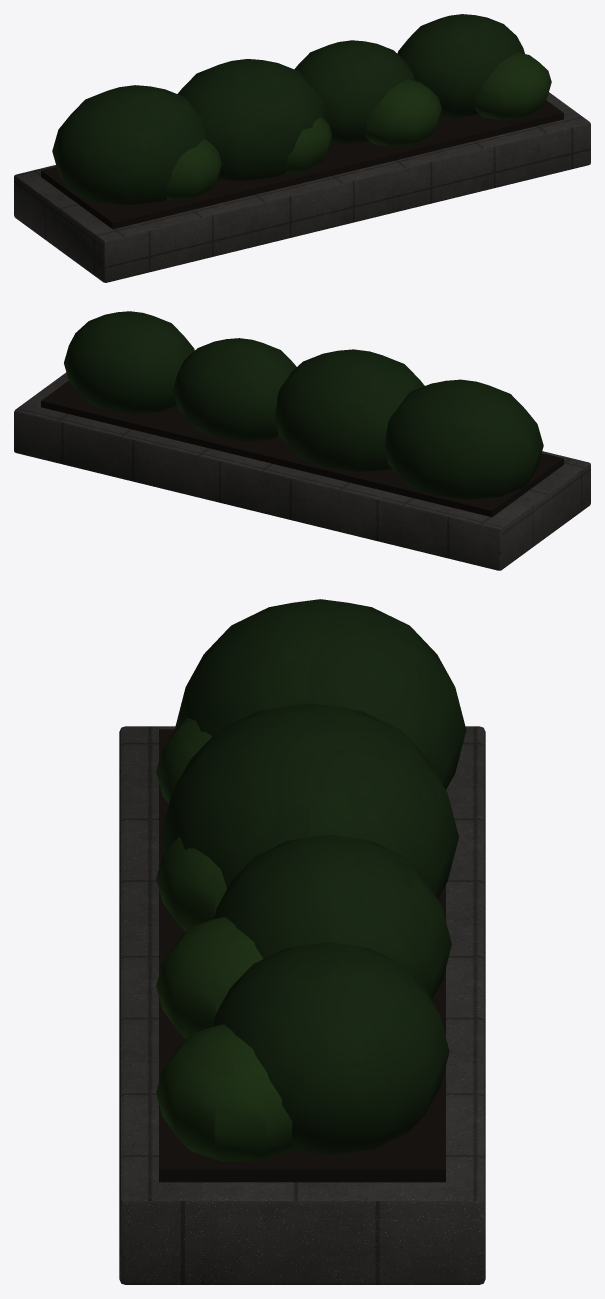
The model's file is fac_planter.glb.
The picture shows the model from 3 angles, top to bottom: view 1: azimuth 30°, elevation 25°; view 2: azimuth 150°, elevation 25°; view 3: azimuth 270°, elevation 25°; orthographic projection. The views are drawn at different scales.
Visible parts, largest first — view 1: FAC_PLANTER; view 2: FAC_PLANTER; view 3: FAC_PLANTER.
Part boxes in pixels (x1,y1,x2,y2): FAC_PLANTER: (14, 14, 590, 282); FAC_PLANTER: (14, 311, 590, 570); FAC_PLANTER: (119, 599, 485, 1284).
Bounding box in the file's own units: 4 × 1.07 × 1.3.
4 materials, 4 textured.
